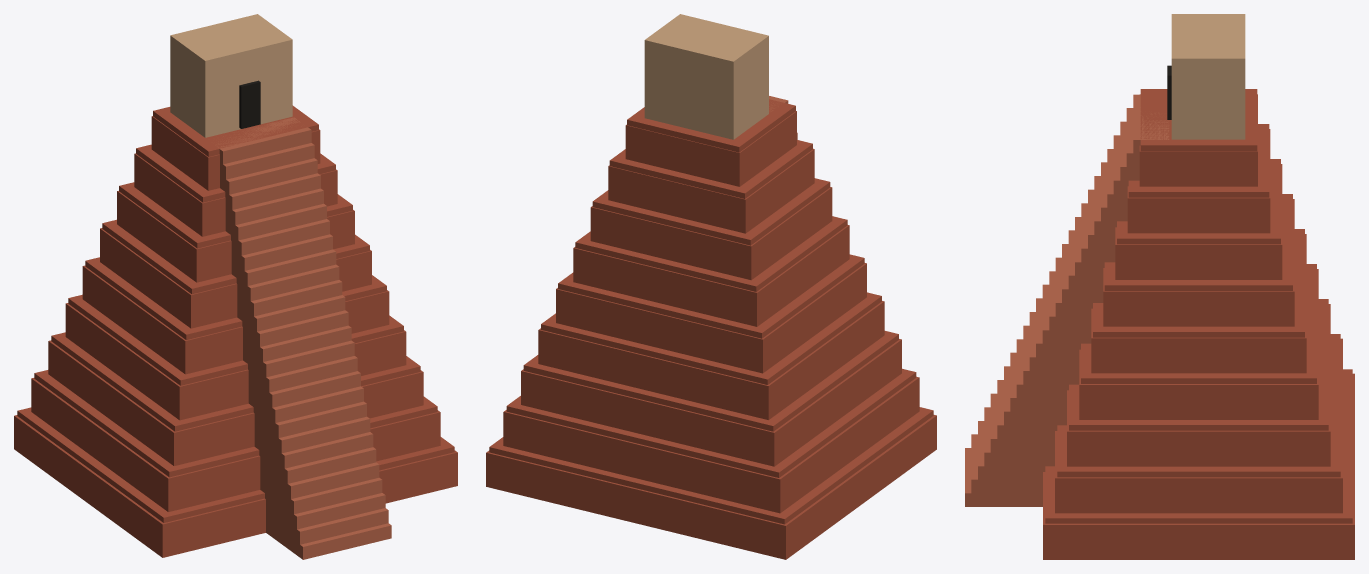
File: meso-coba-iglesia.glb
The picture shows the model from 3 angles, left to right: view 1: azimuth 30°, elevation 25°; view 2: azimuth 150°, elevation 25°; view 3: azimuth 270°, elevation 25°; orthographic projection. The views are drawn at different scales.
Visible parts, largest first — view 1: meso-body, meso-stair, meso-shrine, meso-door; view 2: meso-body, meso-shrine; view 3: meso-body, meso-stair, meso-shrine.
Boxes of the visible parts, <box> form: meso-body: <box>14,105,457,557</box>; meso-stair: <box>215,117,391,559</box>; meso-shrine: <box>170,14,292,137</box>; meso-door: <box>239,80,260,128</box>; meso-body: <box>486,99,936,559</box>; meso-shrine: <box>644,14,768,139</box>; meso-body: <box>1043,89,1354,559</box>; meso-stair: <box>965,94,1169,506</box>; meso-shrine: <box>1171,14,1245,139</box>.
Size of the model in its own units: 21.2 by 29.28 by 23.1.
